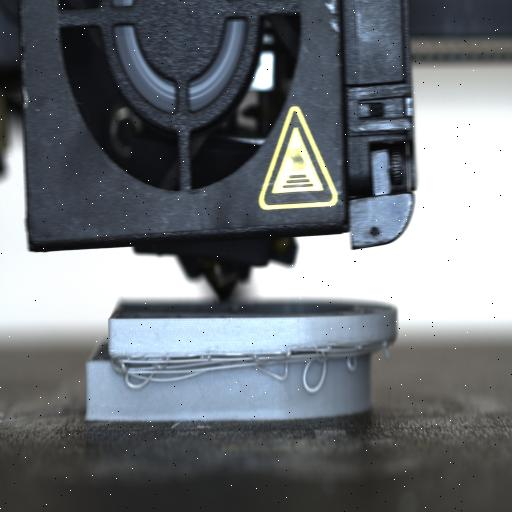layer_shift: (87, 336, 399, 366)
